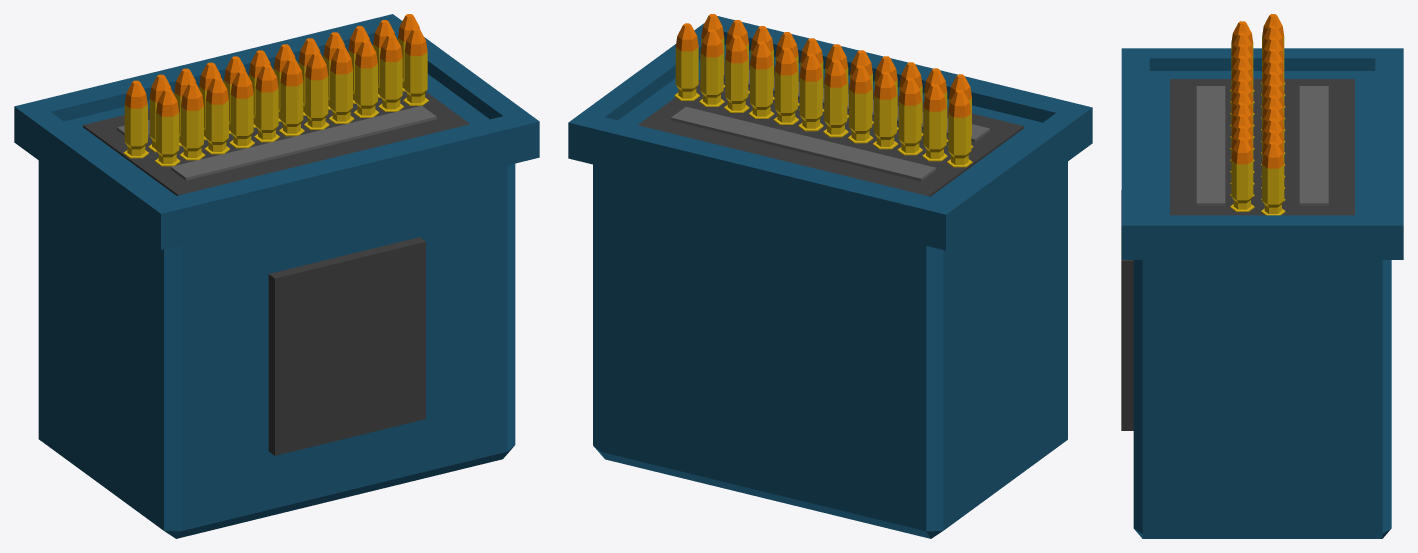
File: Smg Ammo Box.glb
The picture shows the model from 3 angles, left to right: view 1: azimuth 30°, elevation 25°; view 2: azimuth 150°, elevation 25°; view 3: azimuth 270°, elevation 25°; orthographic projection. The views are drawn at different scales.
Visible parts, largest first — view 1: SMGAmmo_Box_Cube.003; view 2: SMGAmmo_Box_Cube.003; view 3: SMGAmmo_Box_Cube.003.
Part boxes in pixels (left/top/right/bottom): SMGAmmo_Box_Cube.003: left=14, top=14, right=539, bottom=538; SMGAmmo_Box_Cube.003: left=568, top=14, right=1092, bottom=538; SMGAmmo_Box_Cube.003: left=1121, top=14, right=1403, bottom=538.
Size of the model in its own units: 3.35 by 3.38 by 2.25.
